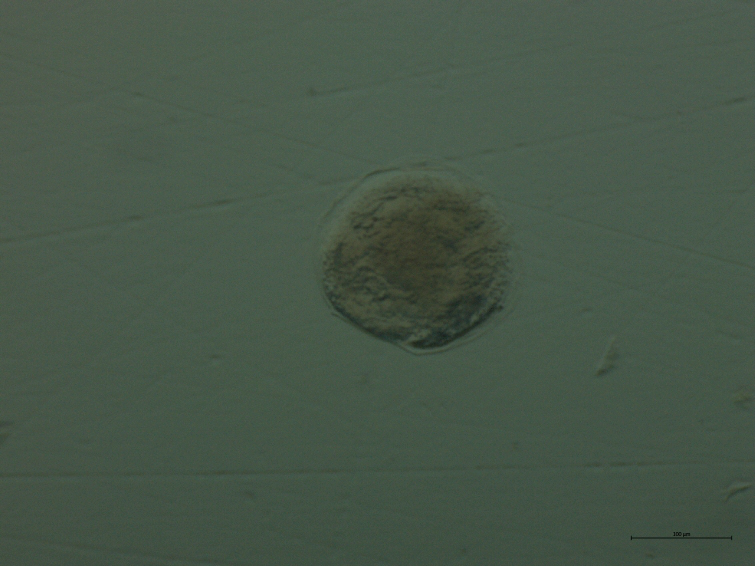oyster: (306, 157, 535, 367)
